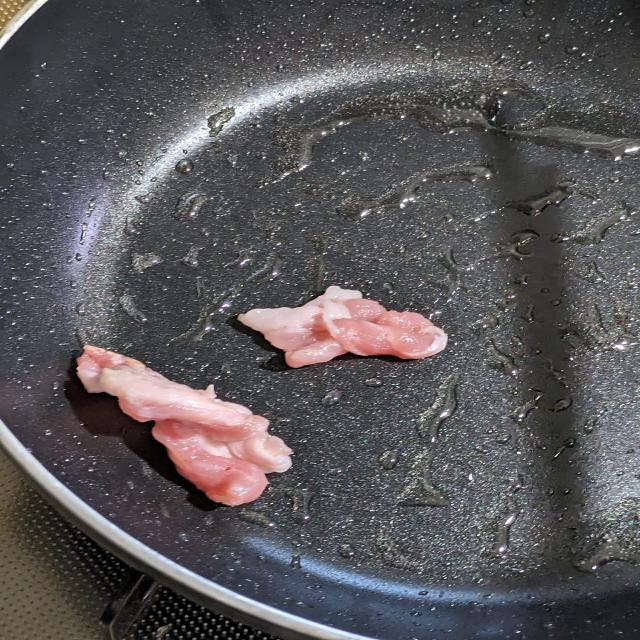NG raw pork,: (70, 340, 300, 513), (216, 283, 460, 376)
